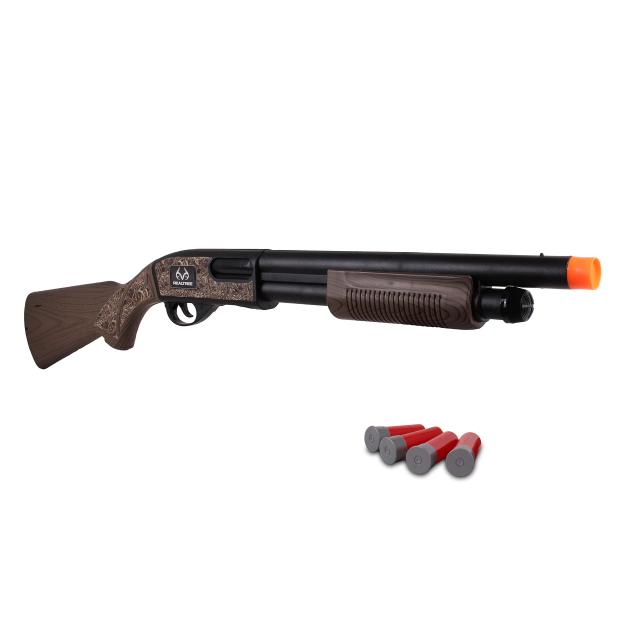ShotGun: (23, 250, 604, 372)
